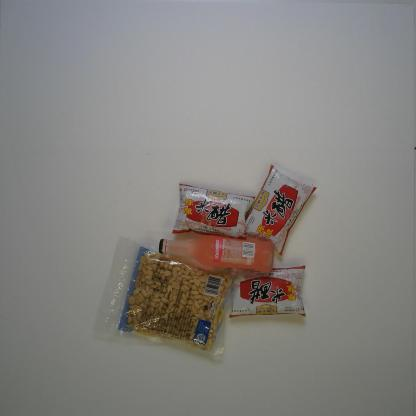Alcohol: (159, 232, 275, 274)
Dried Fruit: (92, 235, 235, 360)
Seasoner: (245, 164, 318, 256), (171, 183, 255, 240), (228, 264, 307, 318)
